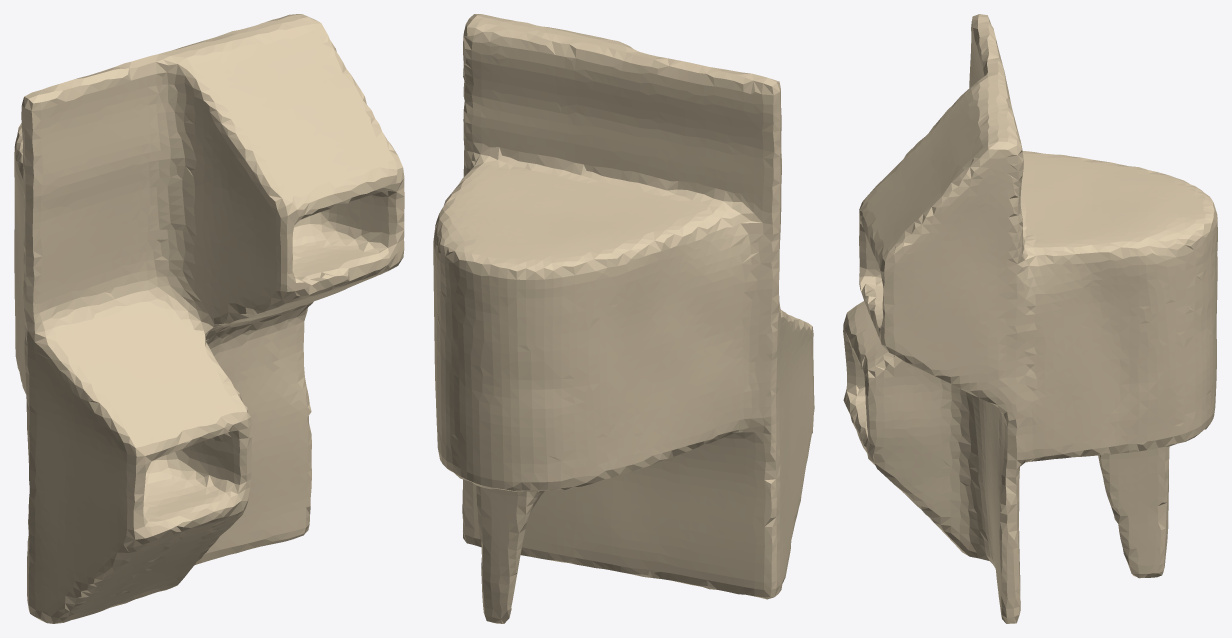
Rendered from skulptur-05.glb.
3 renders of one model, left to right at view 1: azimuth 30°, elevation 25°; view 2: azimuth 150°, elevation 25°; view 3: azimuth 270°, elevation 25°, orthographic. The views are drawn at different scales.
Parts seen in each view (by area): view 1: skulptur-05; view 2: skulptur-05; view 3: skulptur-05.
Part boxes in pixels (left/top/right/bottom): skulptur-05: left=14, top=14, right=404, bottom=623; skulptur-05: left=433, top=14, right=814, bottom=623; skulptur-05: left=843, top=14, right=1217, bottom=623.
Bounding box in the file's own units: 0.6547 × 0.9993 × 0.6995.
